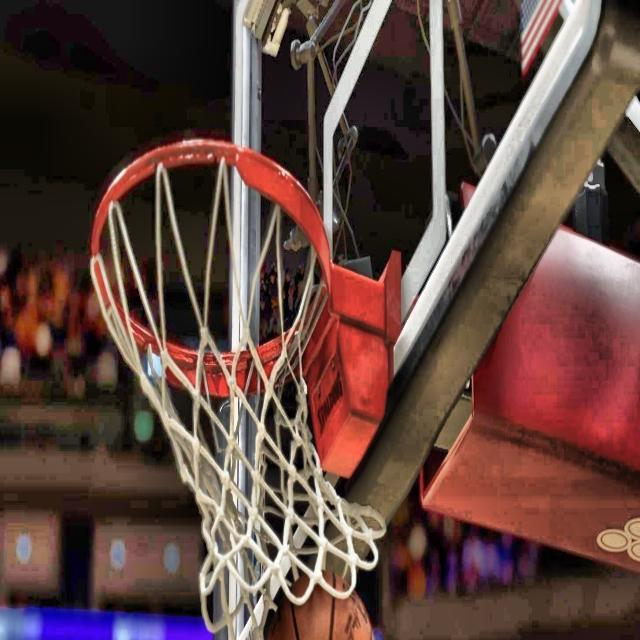rim: (88, 136, 383, 607)
